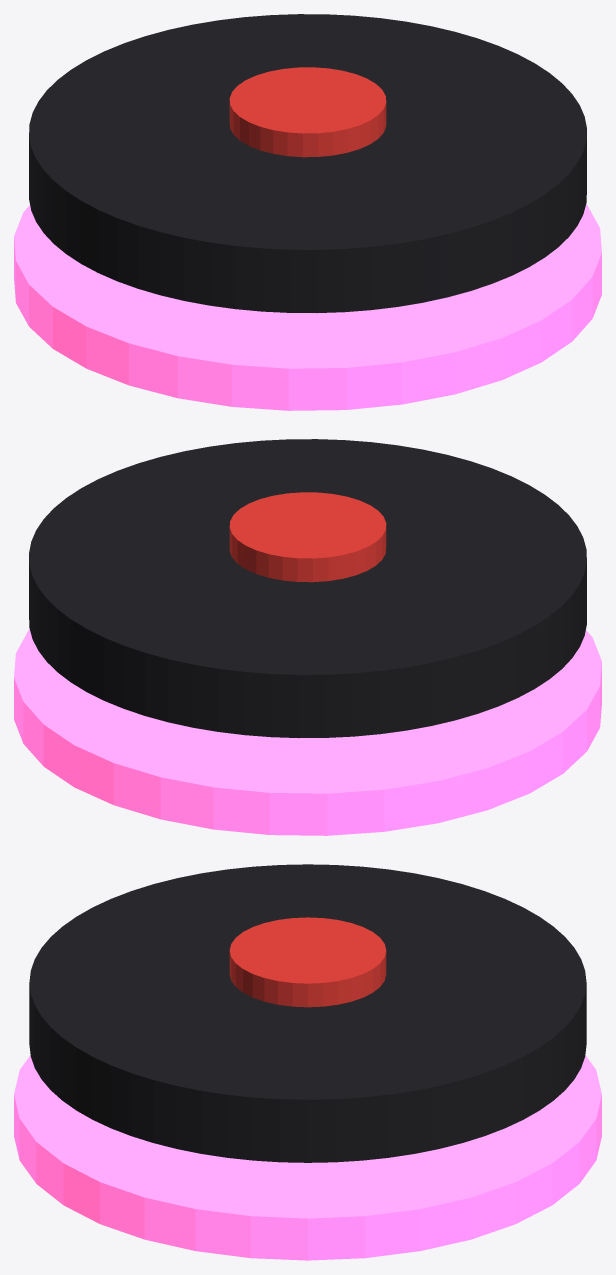
The model's file is music_vinyl_record.glb.
3 views of the same model, one above another, from view 1: azimuth 30°, elevation 25°; view 2: azimuth 150°, elevation 25°; view 3: azimuth 270°, elevation 25° (orthographic).
Visible parts, largest first — view 1: 07_07_Popular_Music_Vinyl_Record_part_01, 07_07_Popular_Music_Vinyl_Record_ROOT_base, 07_07_Popular_Music_Vinyl_Record_part_02; view 2: 07_07_Popular_Music_Vinyl_Record_part_01, 07_07_Popular_Music_Vinyl_Record_ROOT_base, 07_07_Popular_Music_Vinyl_Record_part_02; view 3: 07_07_Popular_Music_Vinyl_Record_part_01, 07_07_Popular_Music_Vinyl_Record_ROOT_base, 07_07_Popular_Music_Vinyl_Record_part_02.
Boxes of the visible parts, x1,y1,x2,y2 form: 07_07_Popular_Music_Vinyl_Record_part_01: (29,14,586,312); 07_07_Popular_Music_Vinyl_Record_ROOT_base: (14,204,601,410); 07_07_Popular_Music_Vinyl_Record_part_02: (229,67,386,157); 07_07_Popular_Music_Vinyl_Record_part_01: (29,439,586,737); 07_07_Popular_Music_Vinyl_Record_ROOT_base: (14,629,601,835); 07_07_Popular_Music_Vinyl_Record_part_02: (229,492,386,582); 07_07_Popular_Music_Vinyl_Record_part_01: (29,864,586,1162); 07_07_Popular_Music_Vinyl_Record_ROOT_base: (14,1055,601,1260); 07_07_Popular_Music_Vinyl_Record_part_02: (229,917,386,1007).
Size of the model in its own units: 0.76 by 0.265 by 0.76.
